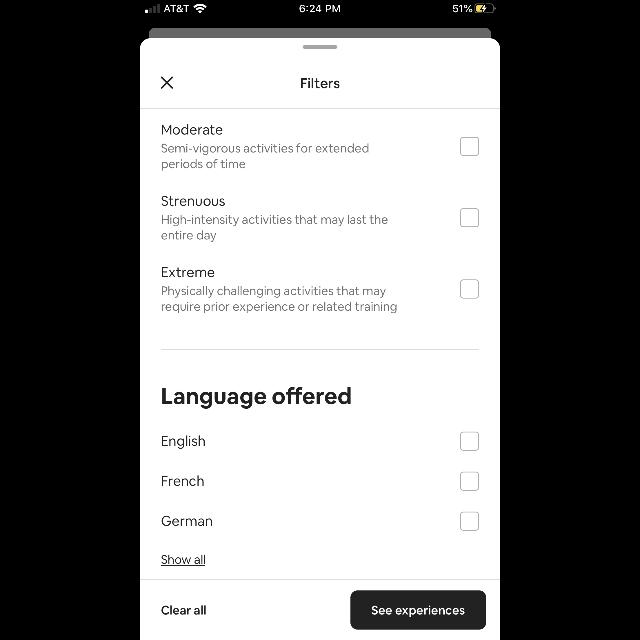checkbox: (460, 472, 480, 491), (460, 136, 478, 156), (460, 280, 480, 298), (459, 208, 478, 226), (459, 433, 478, 451), (459, 512, 478, 530)
icon: (161, 77, 173, 89)
text: (162, 286, 396, 314), (162, 214, 388, 242), (162, 143, 368, 171), (163, 387, 351, 409), (162, 124, 222, 136), (162, 196, 224, 207), (162, 435, 205, 449), (161, 554, 205, 566), (162, 267, 214, 277), (162, 516, 212, 526), (300, 78, 340, 89), (162, 476, 204, 486), (162, 606, 206, 614)
textbutton: (350, 590, 486, 630)
uppertaskbar: (140, 0, 500, 14)
